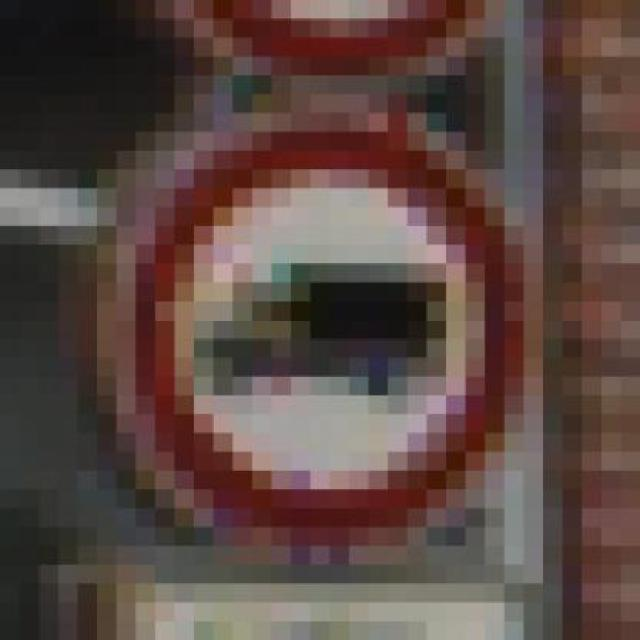Truck traffic is prohibited: (58, 94, 562, 583)
